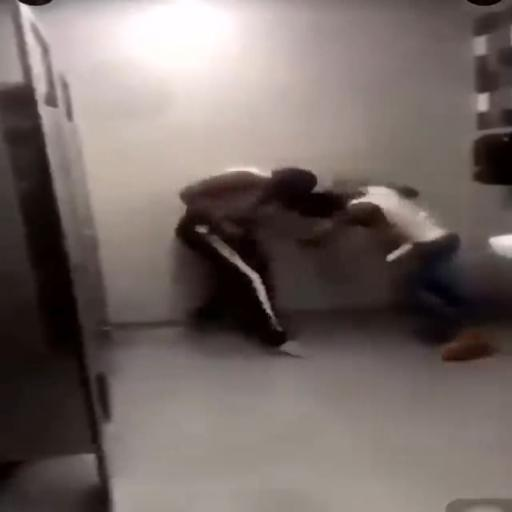violencia: (148, 149, 500, 366)
